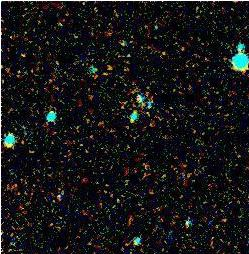star: (115, 108, 145, 138)
